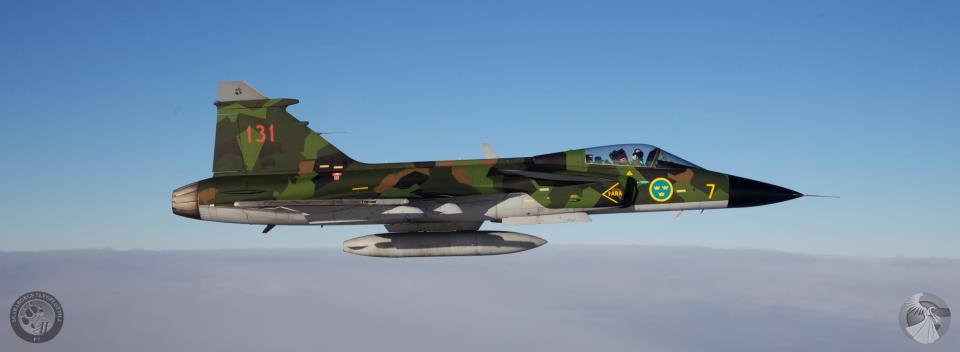JAS39: (171, 79, 841, 258)
